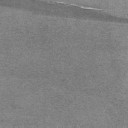finishing roll printing: (0, 0, 128, 23)
